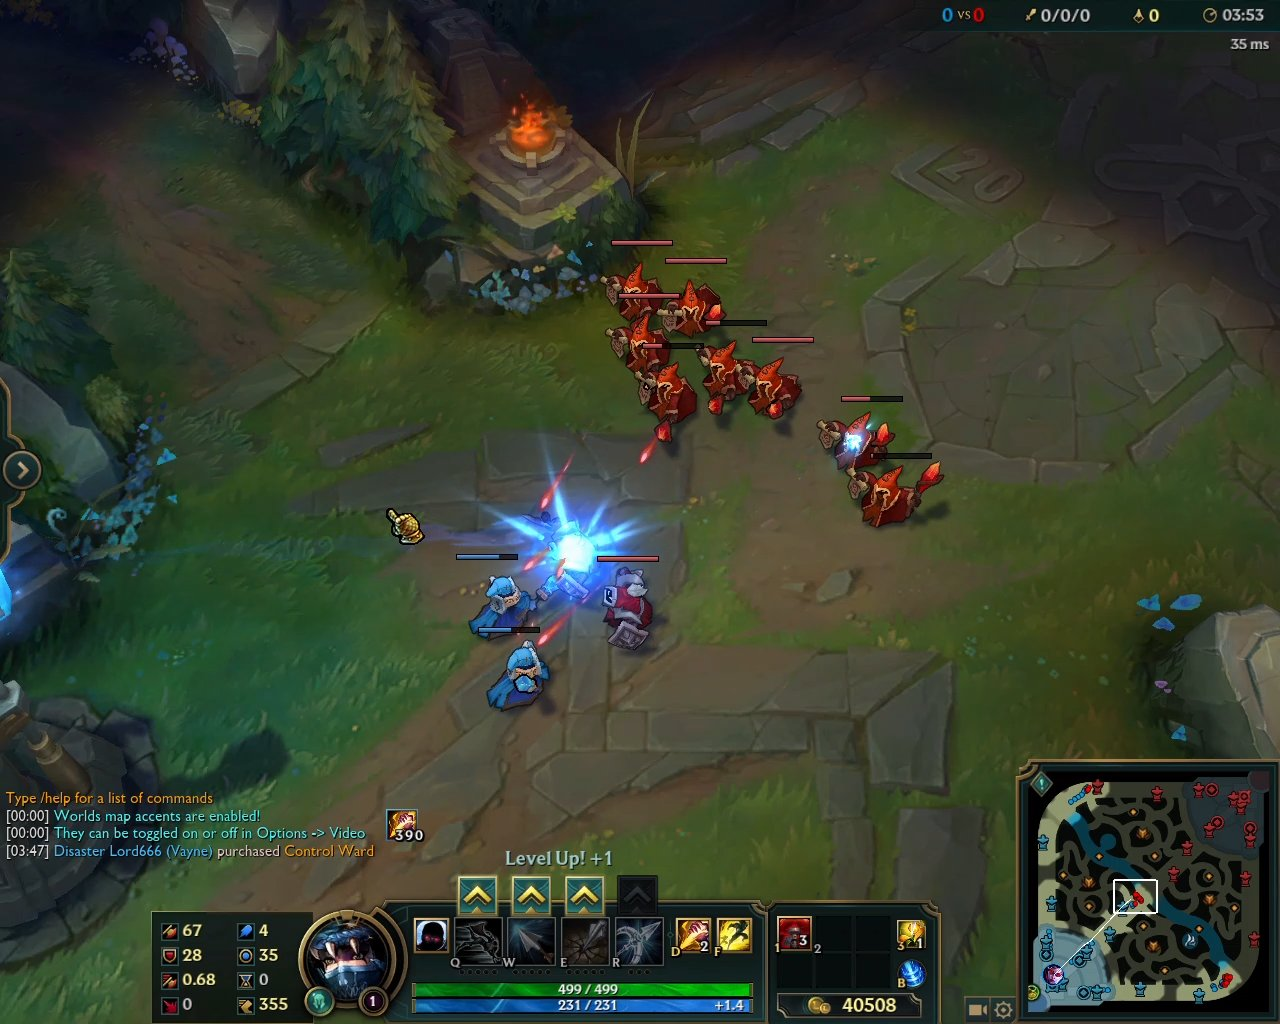EnemyMinion: (837, 451, 946, 531), (632, 341, 704, 445), (734, 336, 815, 425), (814, 394, 906, 471), (695, 321, 765, 418), (595, 555, 661, 654), (602, 294, 680, 377), (656, 257, 729, 343), (599, 241, 672, 325)
